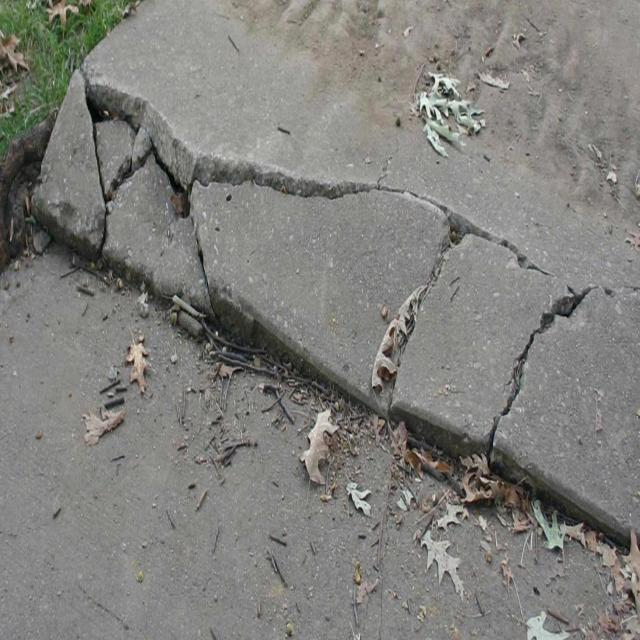bump: (16, 26, 582, 428)
